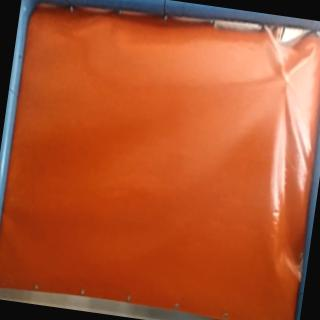Hit-hRxx: (276, 70, 293, 90)
